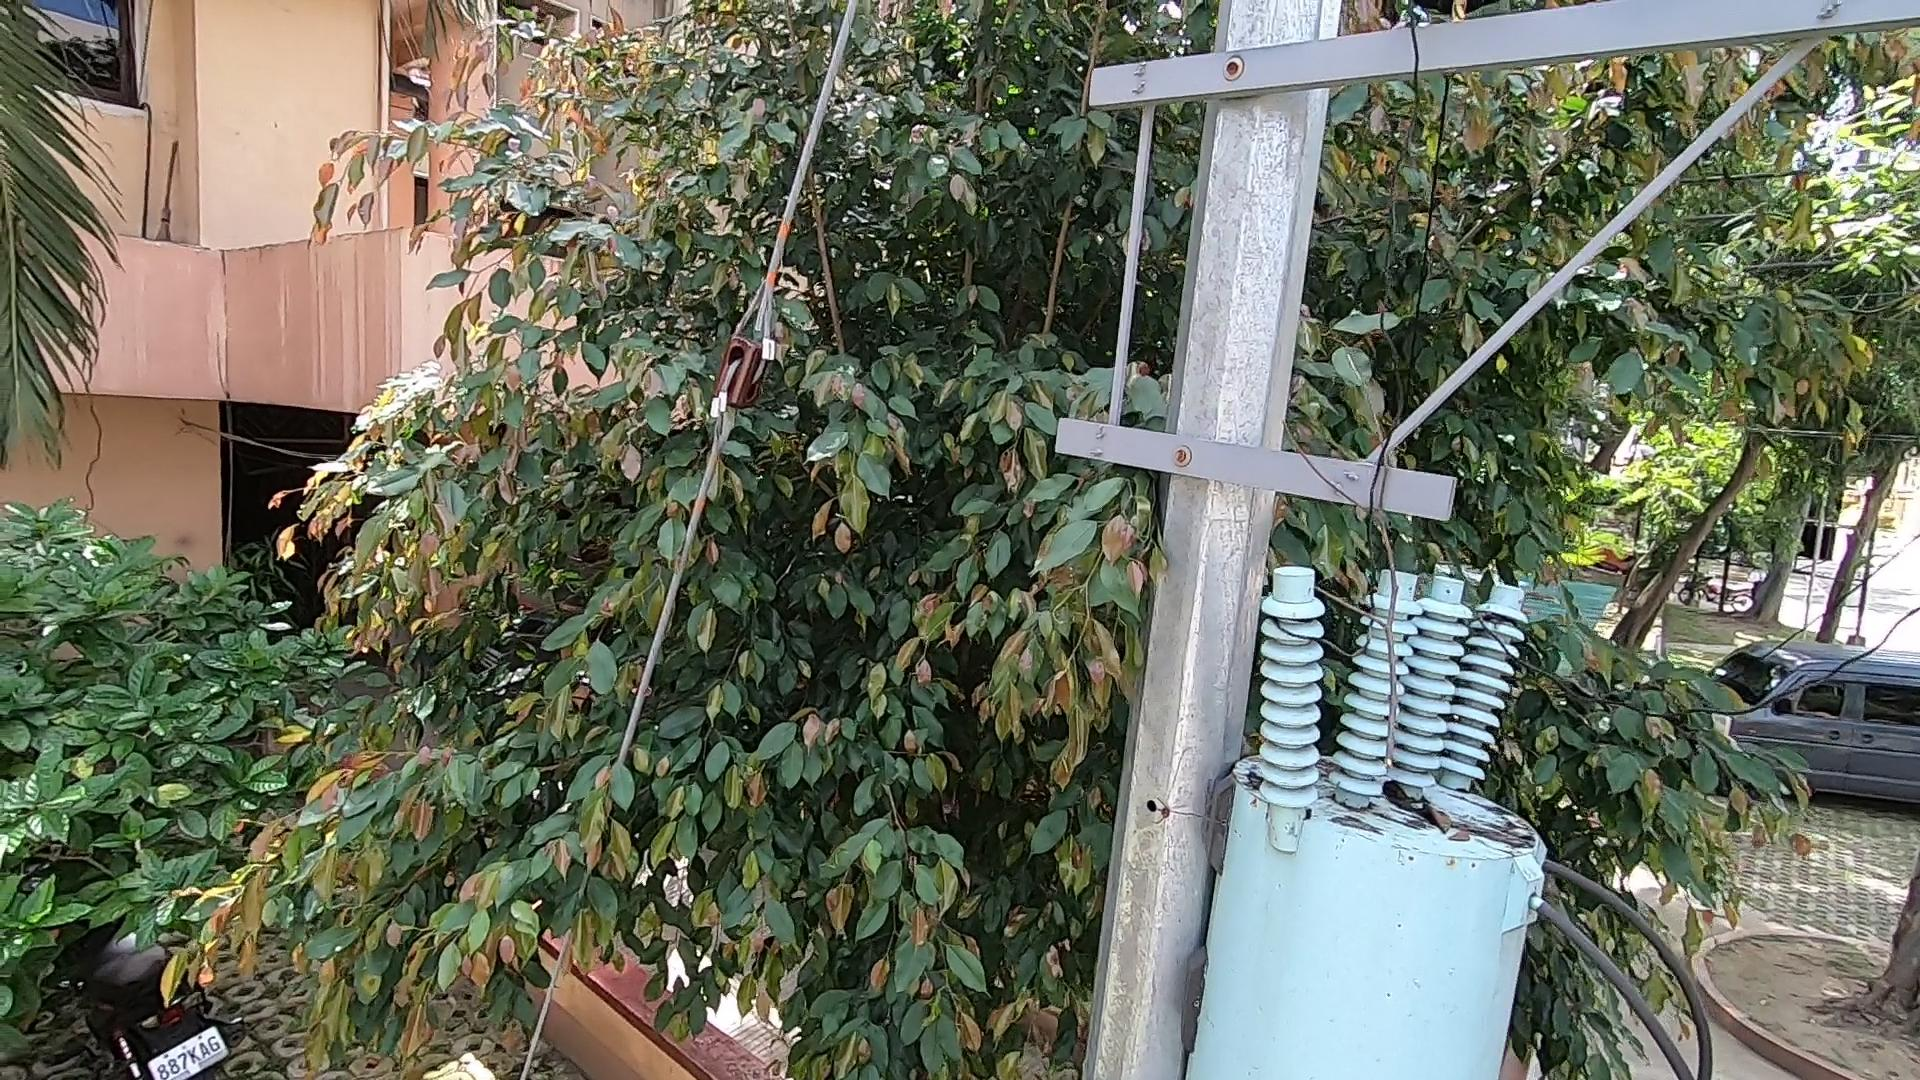leaf: (1369, 771, 1456, 833)
tree branch: (1273, 400, 1436, 771)
